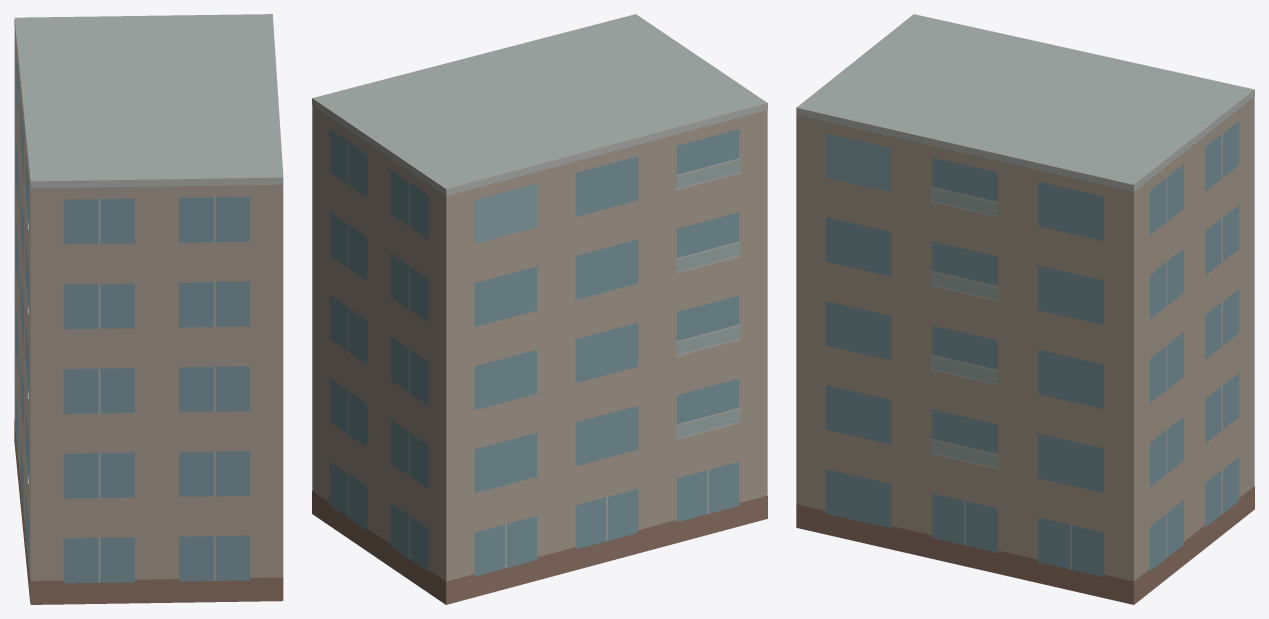
The model's file is survey-upis-32879947.glb.
3 renders of one model, left to right at view 1: azimuth 30°, elevation 25°; view 2: azimuth 150°, elevation 25°; view 3: azimuth 270°, elevation 25°, orthographic.
Parts seen in each view (by area): view 1: survey-upis-32879947.tmp; view 2: survey-upis-32879947.tmp; view 3: survey-upis-32879947.tmp.
Boxes of the visible parts, left/top/right/bottom form: survey-upis-32879947.tmp: left=14, top=14, right=283, bottom=604; survey-upis-32879947.tmp: left=312, top=14, right=767, bottom=604; survey-upis-32879947.tmp: left=796, top=14, right=1254, bottom=604.
Size of the model in its own units: 12.71 by 14.55 by 14.41.
